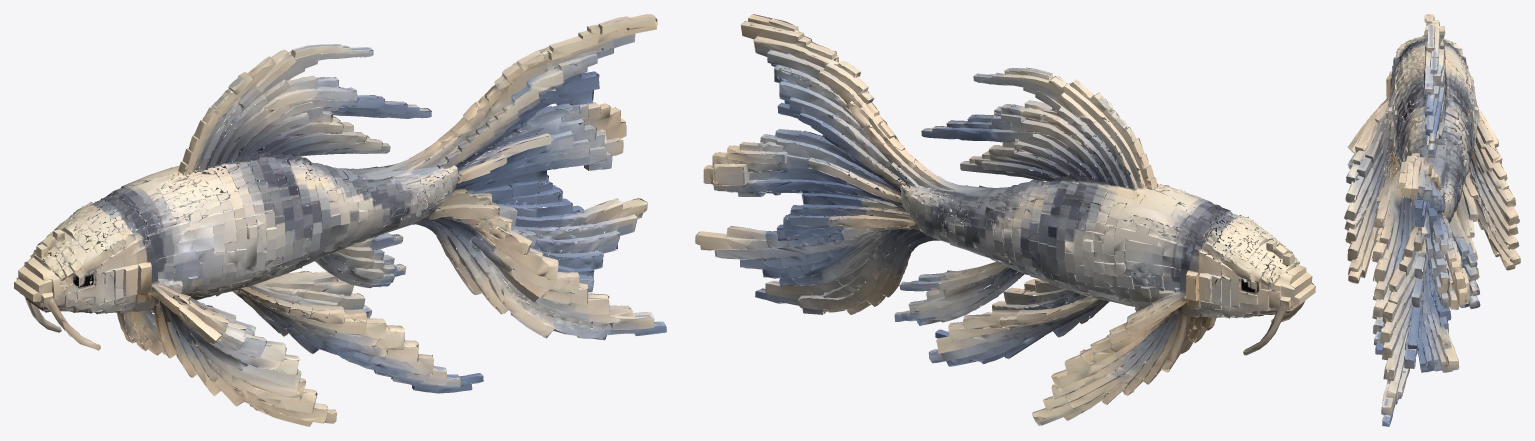
Rendered from butterfly_koi_b.glb.
3 renders of one model, left to right at view 1: azimuth 30°, elevation 25°; view 2: azimuth 150°, elevation 25°; view 3: azimuth 270°, elevation 25°, orthographic. The views are drawn at different scales.
Parts seen in each view (by area): view 1: node_0; view 2: node_0; view 3: node_0.
Part boxes in pixels (bbox=[...]): node_0: bbox=[14, 14, 666, 426]; node_0: bbox=[695, 14, 1315, 425]; node_0: bbox=[1344, 14, 1520, 426].
Bounding box in the file's own units: 1.12 × 0.5859 × 0.3414.
Materials: 1 (1 with a texture image).
